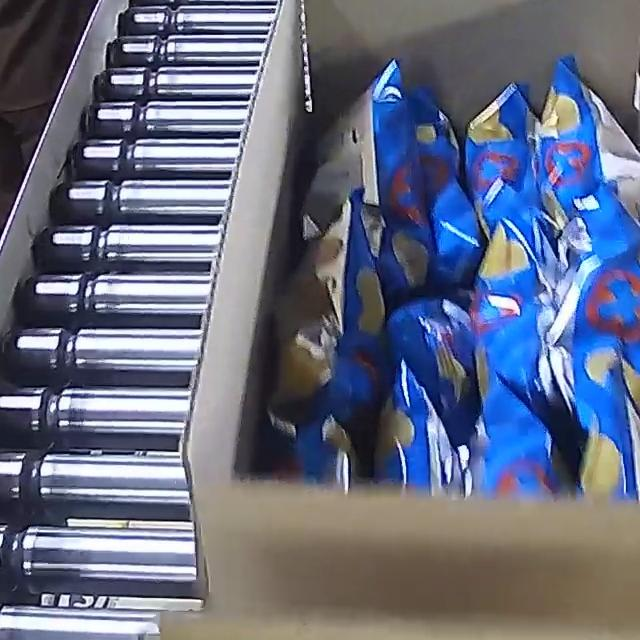paprika: (265, 51, 640, 503)
